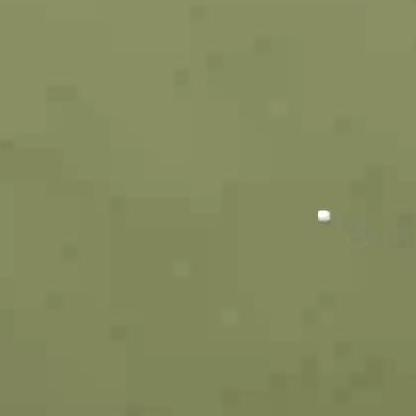golfball: (315, 207, 329, 222)
